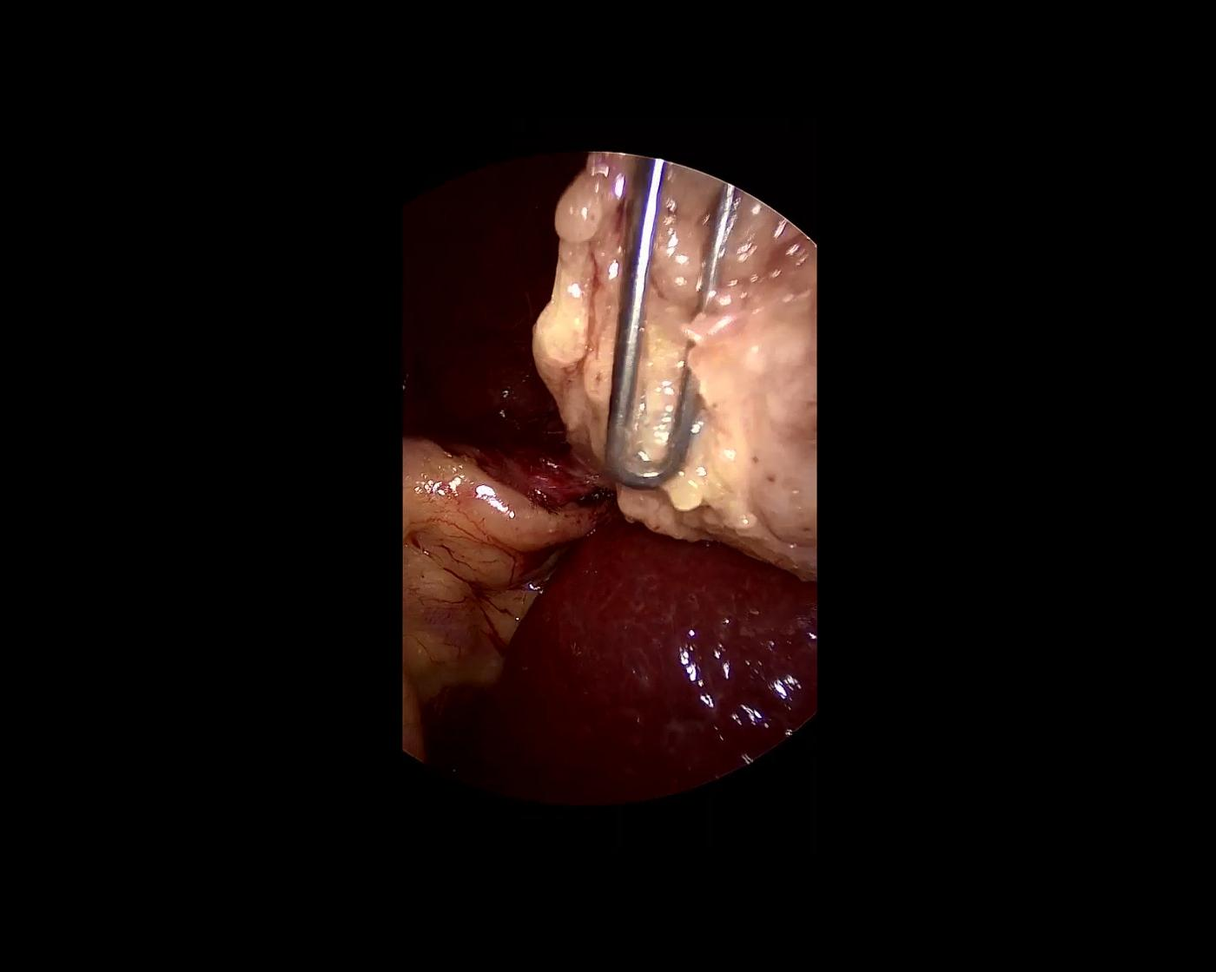Forceps: (583, 157, 739, 502)
Gallbladder: (531, 151, 815, 585)
Liver: (502, 522, 815, 804), (382, 138, 587, 464)
